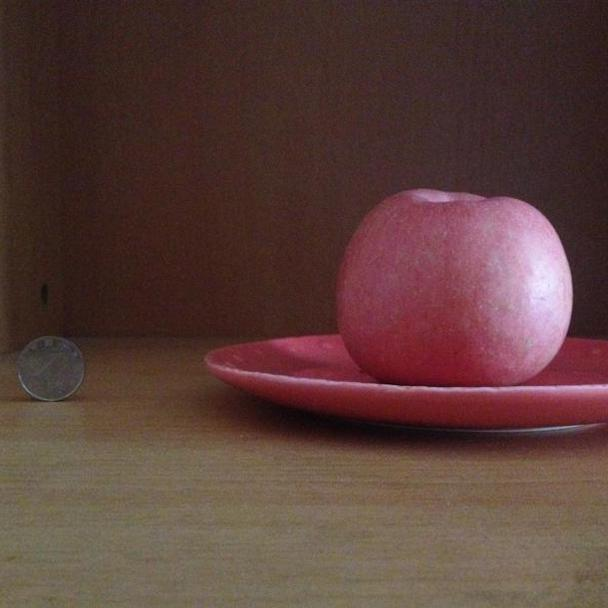apple: (333, 179, 579, 386)
